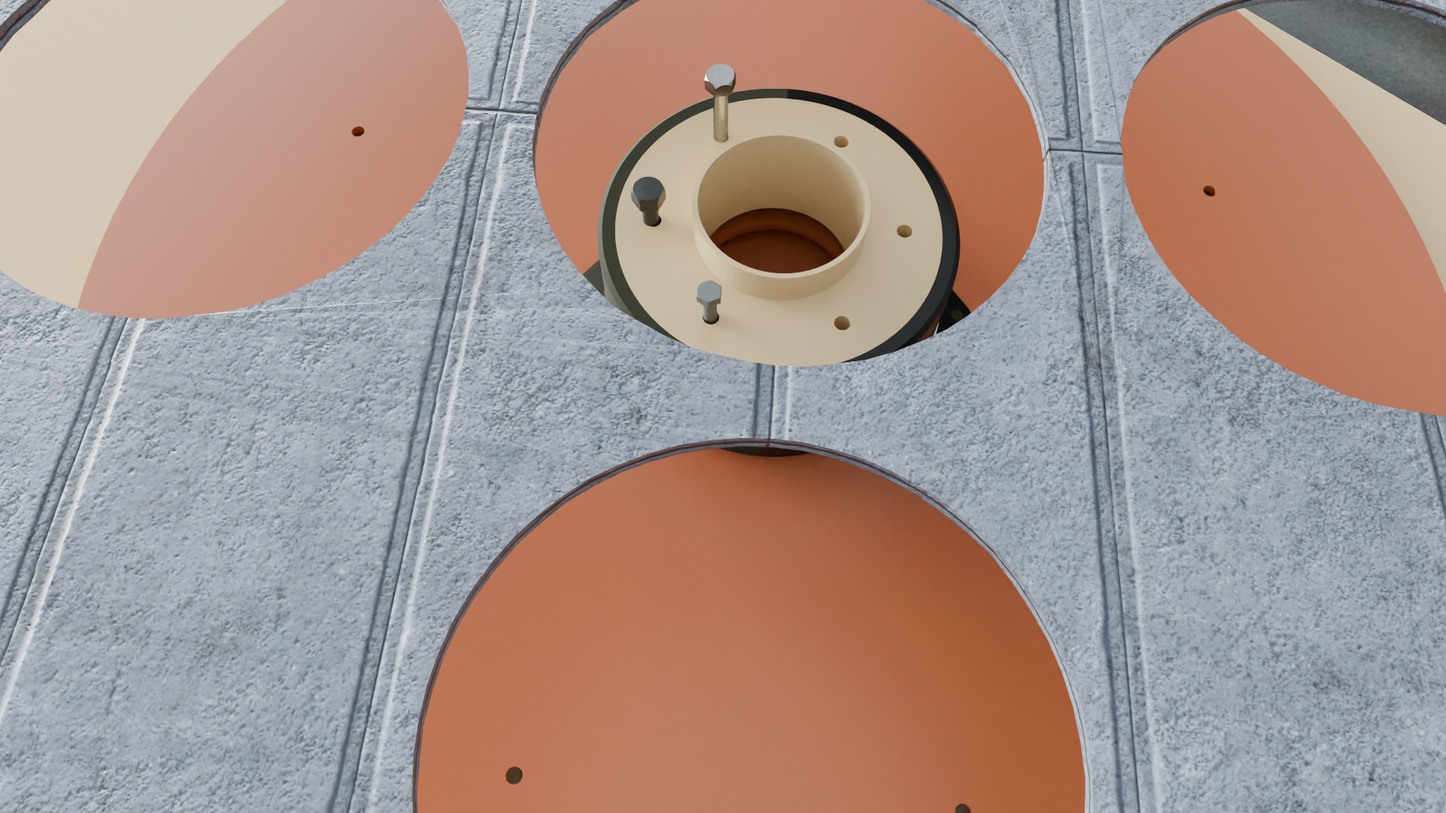bolt: (631, 176, 666, 204), (704, 64, 736, 90), (697, 279, 721, 303)
